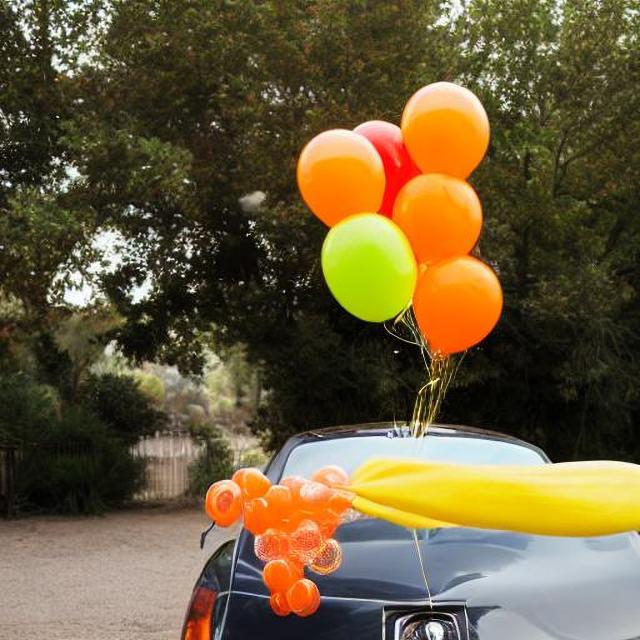balloon: (294, 75, 504, 378), (208, 460, 353, 616)
